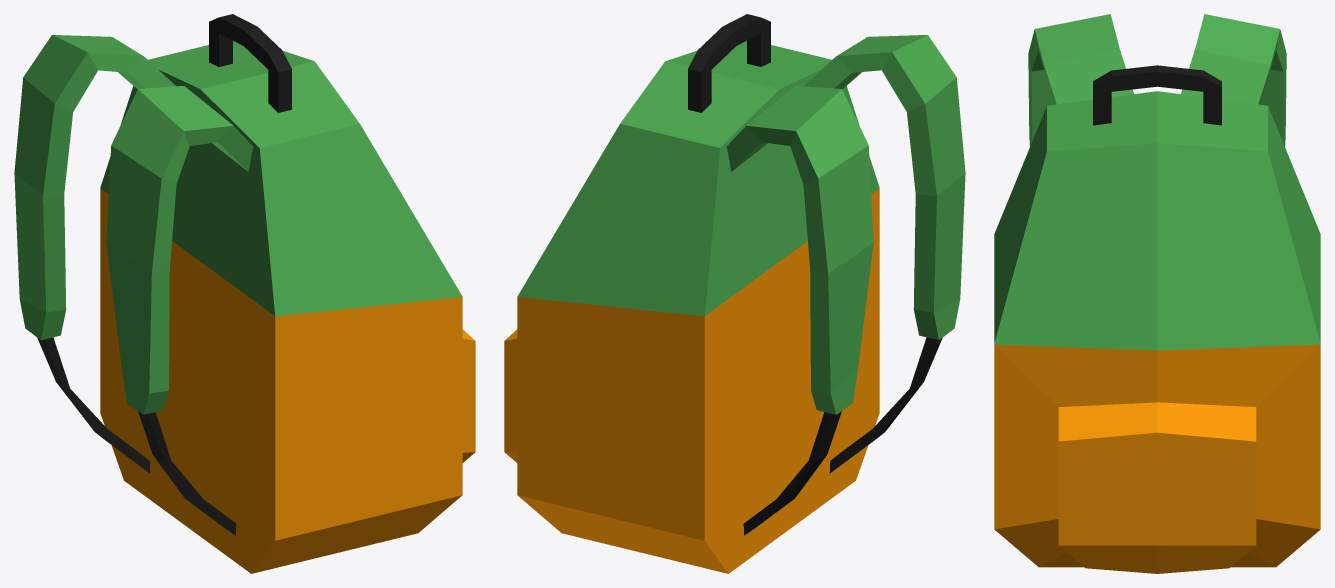
The model's file is Backpack_01.obj.
3 renders of one model, left to right at view 1: azimuth 30°, elevation 25°; view 2: azimuth 150°, elevation 25°; view 3: azimuth 270°, elevation 25°, orthographic. The views are drawn at different scales.
Visible parts, largest first — view 1: Backpack_Cube.024; view 2: Backpack_Cube.024; view 3: Backpack_Cube.024.
Boxes of the visible parts, left/top/right/bottom form: Backpack_Cube.024: left=14, top=14, right=475, bottom=573; Backpack_Cube.024: left=504, top=14, right=965, bottom=573; Backpack_Cube.024: left=994, top=14, right=1320, bottom=573.
Bounding box in the file's own units: 11.48 × 15.25 × 10.
